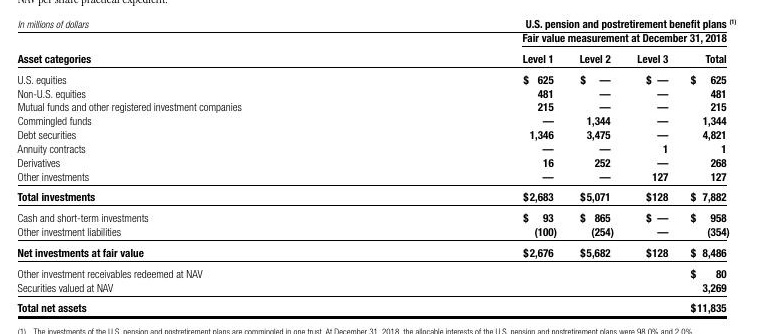table: (0, 0, 757, 334)
